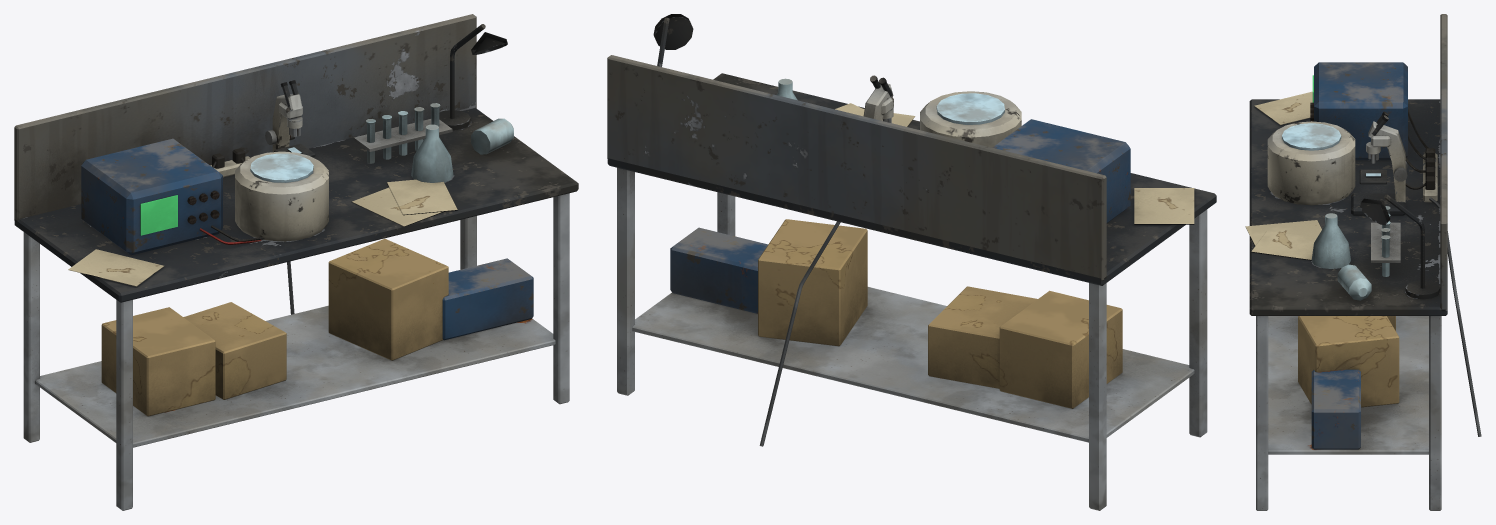
File: LabBench.fbx
The picture shows the model from 3 angles, left to right: view 1: azimuth 30°, elevation 25°; view 2: azimuth 150°, elevation 25°; view 3: azimuth 270°, elevation 25°; orthographic projection. The views are drawn at different scales.
Parts seen in each view (by area): view 1: Frame, ScreenGreen; view 2: Frame; view 3: Frame.
Boxes of the visible parts, box(x1,y1,x2,y2) form: Frame: box(14, 14, 578, 510); ScreenGreen: box(140, 195, 177, 235); Frame: box(607, 14, 1216, 510); Frame: box(1245, 14, 1481, 510).
Bounding box in the file's own units: 6.2 × 4.13 × 2.86.
Materials: 1 (1 with a texture image).
